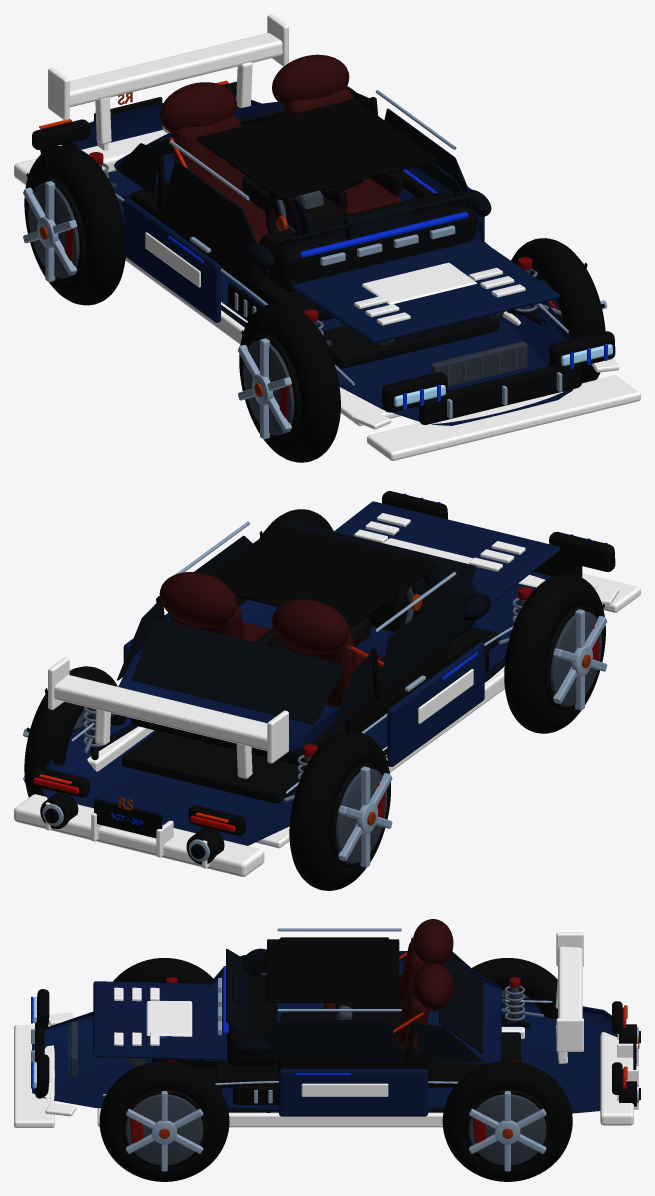
File: SpectralGTRS.obj
3 renders of one model, top to bottom at view 1: azimuth 30°, elevation 25°; view 2: azimuth 150°, elevation 25°; view 3: azimuth 270°, elevation 25°, orthographic. The views are drawn at different scales.
Parts seen in each view (by area): view 1: Panoramic_Roof_Glass_0, Hood_Center_Panel_0, BODY_Shell_Hero_0, Front_Left_Tire_0, Rear_Left_Tire_0, Dashboard_Core_0, Front_Splitter_0, Active_Wing_Blade_0, Door_Skin_L_0, Front_Right_Tire_0, Front_Grille_Deep_0, L_Glass_Main_0 (+34 smaller); view 2: Rear_Windshield_0, Panoramic_Roof_Glass_0, BODY_Shell_Hero_0, Rear_Left_Tire_0, Front_Left_Tire_0, Hood_Center_Panel_0, Rear_Subframe_0, Active_Wing_Blade_0, Door_Skin_L_0, Rear_Diffuser_0, CABIN_Roof_Shell_0, L_Glass_Main_0 (+33 smaller); view 3: BODY_Shell_Hero_0, Panoramic_Roof_Glass_0, Hood_Center_Panel_0, Rear_Right_Tire_0, Front_Right_Tire_0, Door_Skin_R_0, R_Glass_Main_0, R_Side_Skirt_0, Front_Splitter_0, CABIN_Roof_Shell_0, Rear_Windshield_0, Front_Right_Rim_Base_0 (+32 smaller).
Boxes of the visible parts, <box> form: Panoramic_Roof_Glass_0: <box>196,99,437,199</box>; Hood_Center_Panel_0: <box>292,240,560,343</box>; BODY_Shell_Hero_0: <box>40,96,582,425</box>; Front_Left_Tire_0: <box>239,302,340,462</box>; Rear_Left_Tire_0: <box>24,145,125,305</box>; Dashboard_Core_0: <box>259,191,475,291</box>; Front_Splitter_0: <box>367,375,640,460</box>; Active_Wing_Blade_0: <box>69,33,282,107</box>; Door_Skin_L_0: <box>123,198,220,322</box>; Front_Right_Tire_0: <box>511,238,605,383</box>; Front_Grille_Deep_0: <box>419,364,582,424</box>; L_Glass_Main_0: <box>165,160,269,274</box>; Rear_Windshield_0: <box>131,618,345,724</box>; Panoramic_Roof_Glass_0: <box>210,524,437,625</box>; BODY_Shell_Hero_0: <box>41,571,580,845</box>; Rear_Left_Tire_0: <box>289,731,390,890</box>; Front_Left_Tire_0: <box>504,574,605,733</box>; Hood_Center_Panel_0: <box>334,501,560,604</box>; Rear_Subframe_0: <box>122,731,304,803</box>; Active_Wing_Blade_0: <box>54,675,267,750</box>; Door_Skin_L_0: <box>387,642,484,766</box>; Rear_Diffuser_0: <box>14,794,264,876</box>; CABIN_Roof_Shell_0: <box>118,583,480,750</box>; L_Glass_Main_0: <box>380,587,473,693</box>; BODY_Shell_Hero_0: <box>32,997,617,1113</box>; Panoramic_Roof_Glass_0: <box>267,939,399,1002</box>; Hood_Center_Panel_0: <box>93,981,223,1060</box>; Rear_Right_Tire_0: <box>442,1061,572,1181</box>; Front_Right_Tire_0: <box>99,1061,229,1181</box>; Door_Skin_R_0: <box>279,1069,428,1116</box>; R_Glass_Main_0: <box>238,1020,403,1060</box>; R_Side_Skirt_0: <box>229,1112,443,1127</box>; Front_Splitter_0: <box>14,1025,54,1127</box>; CABIN_Roof_Shell_0: <box>203,951,501,1063</box>; Rear_Windshield_0: <box>439,956,483,1053</box>; Front_Right_Rim_Base_0: <box>125,1094,203,1165</box>.
Bounding box in the file's own units: 2.53 × 1.68 × 5.21.
